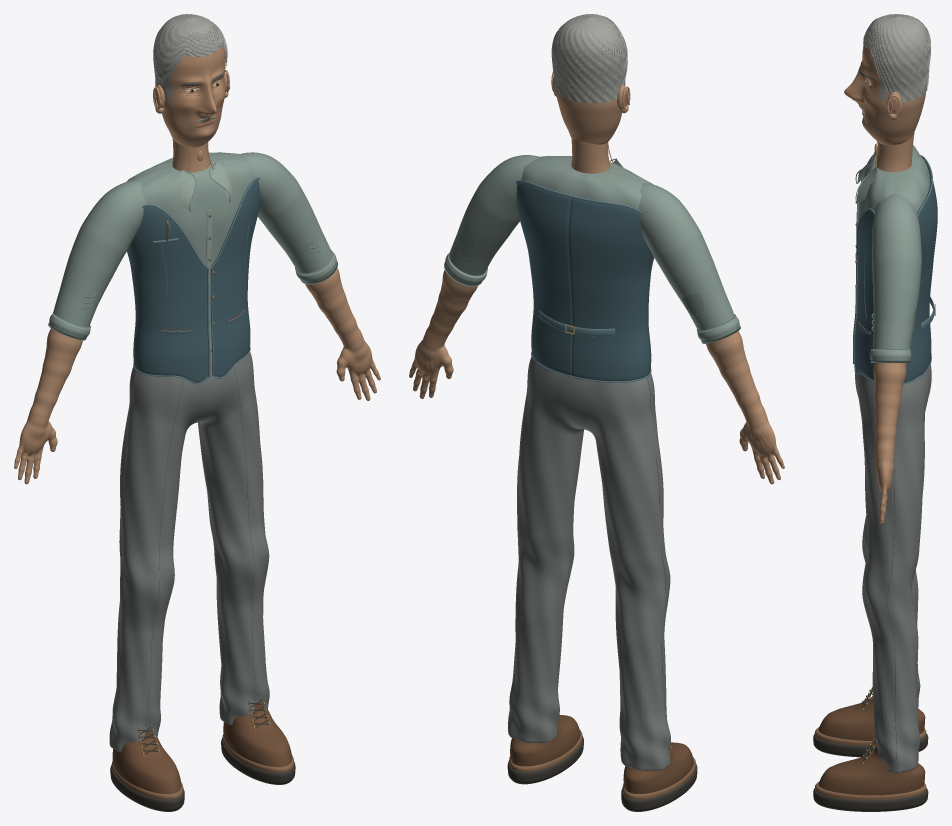
3 renders of one model, left to right at view 1: azimuth 30°, elevation 25°; view 2: azimuth 150°, elevation 25°; view 3: azimuth 270°, elevation 25°, orthographic. The views are drawn at different scales.
Visible parts, largest first — view 1: 02 trousers / trousers, 04 shirt / shirt sage, 05 waistcoat / vest midnight, 06 hands / warm olive skin, 03 boots / leather, 07 head / warm olive skin, 09 hair / hair pewter, 03 boots / sole, 05 waistcoat / vest edge, 03 boots / leather edge, 04 shirt / shirt seams, 01 anatomy / warm olive skin (+2 smaller); view 2: 02 trousers / trousers, 05 waistcoat / vest midnight, 04 shirt / shirt sage, 06 hands / warm olive skin, 09 hair / hair pewter, 03 boots / leather, 07 head / warm olive skin, 03 boots / sole, 09 hair / hair silver, 05 waistcoat / vest edge, 04 shirt / shirt shadows, 01 anatomy / warm olive skin (+1 smaller); view 3: 02 trousers / trousers, 04 shirt / shirt sage, 05 waistcoat / vest midnight, 03 boots / leather, 09 hair / hair pewter, 07 head / warm olive skin (×2), 06 hands / warm olive skin, 03 boots / sole, 03 boots / leather edge, 09 hair / hair silver, 01 anatomy / warm olive skin, 05 waistcoat / vest edge (+3 smaller).
Boxes of the visible parts, box(x1,y1,x2,y2) form: 02 trousers / trousers: box(109, 352, 269, 752); 04 shirt / shirt sage: box(49, 152, 336, 371); 05 waistcoat / vest midnight: box(127, 179, 260, 382); 06 hands / warm olive skin: box(14, 268, 380, 484); 03 boots / leather: box(112, 702, 292, 793); 07 head / warm olive skin: box(162, 47, 225, 147); 09 hair / hair pewter: box(153, 14, 227, 136); 03 boots / sole: box(110, 700, 295, 811); 05 waistcoat / vest edge: box(133, 177, 260, 384); 03 boots / leather edge: box(111, 697, 294, 799); 04 shirt / shirt seams: box(88, 162, 313, 306); 01 anatomy / warm olive skin: box(172, 138, 213, 173); 02 trousers / trousers: box(508, 356, 670, 770); 05 waistcoat / vest midnight: box(516, 182, 653, 381); 04 shirt / shirt sage: box(445, 155, 739, 379); 06 hands / warm olive skin: box(409, 270, 784, 484); 09 hair / hair pewter: box(551, 14, 627, 102); 03 boots / leather: box(510, 714, 693, 793); 07 head / warm olive skin: box(555, 91, 621, 144); 03 boots / sole: box(507, 736, 697, 811); 09 hair / hair silver: box(551, 16, 627, 97); 05 waistcoat / vest edge: box(515, 180, 651, 382); 04 shirt / shirt shadows: box(444, 236, 740, 343); 01 anatomy / warm olive skin: box(571, 139, 613, 173); 02 trousers / trousers: box(855, 364, 931, 773); 04 shirt / shirt sage: box(855, 145, 930, 359); 05 waistcoat / vest midnight: box(854, 159, 937, 382); 03 boots / leather: box(818, 697, 925, 795); 09 hair / hair pewter: box(859, 14, 930, 126); 07 head / warm olive skin (×2): box(844, 46, 925, 145); 06 hands / warm olive skin: box(873, 363, 906, 523); 03 boots / sole: box(813, 687, 928, 811); 03 boots / leather edge: box(815, 690, 926, 800); 09 hair / hair silver: box(863, 19, 930, 115); 01 anatomy / warm olive skin: box(874, 133, 914, 172); 05 waistcoat / vest edge: box(853, 155, 934, 384).
Size of the model in its own units: 0.9796 by 1.92 by 0.2859.
